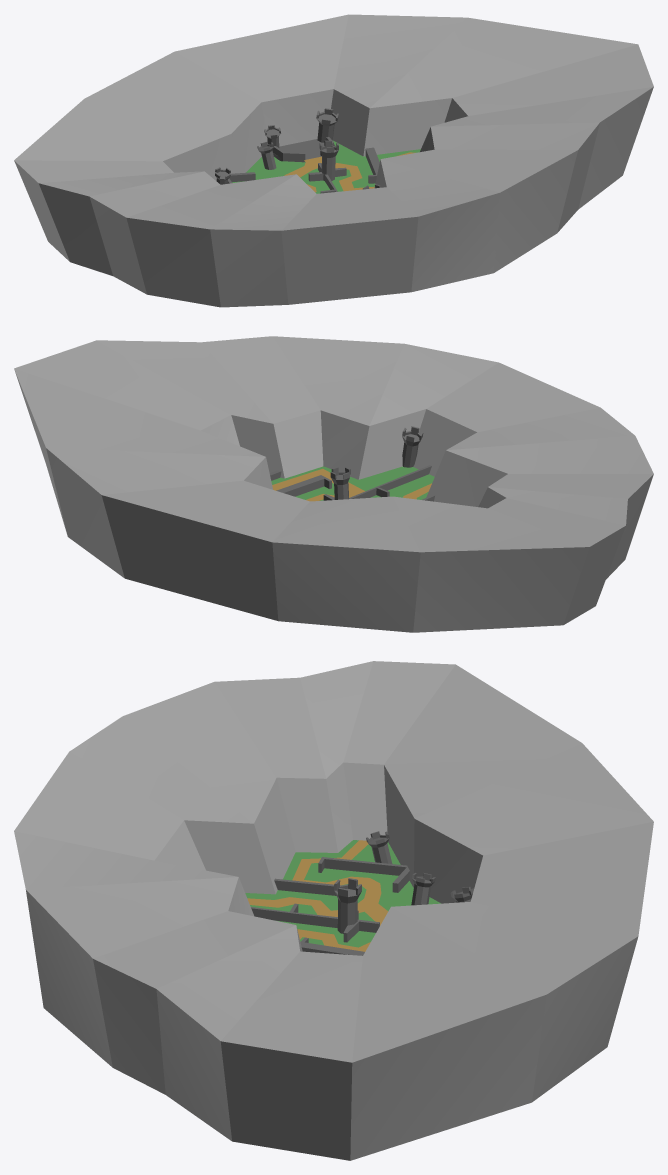
File: xavierlevel.fbx
The picture shows the model from 3 angles, top to bottom: view 1: azimuth 30°, elevation 25°; view 2: azimuth 150°, elevation 25°; view 3: azimuth 270°, elevation 25°; orthographic projection. The views are drawn at different scales.
Visible parts, largest first — view 1: OuterWalls, Ground, tour1, tour5, pCube6; view 2: OuterWalls, Ground, pCube6, tour3, pCube9, tour1; view 3: OuterWalls, Ground, pCube6, pCube8, tour1.
Boxes of the visible parts, box(x1,y1,x2,y2) form: OuterWalls: box(14, 14, 653, 307); Ground: box(232, 139, 420, 193); tour1: box(319, 140, 338, 180); tour5: box(316, 108, 338, 142); pCube6: box(308, 163, 346, 193); OuterWalls: box(14, 336, 653, 632); Ground: box(271, 466, 434, 501); pCube6: box(323, 465, 431, 500); tour3: box(402, 426, 423, 467); pCube9: box(276, 475, 331, 496); tour1: box(330, 467, 350, 499); OuterWalls: box(14, 661, 653, 1160); Ground: box(245, 840, 440, 951); pCube6: box(251, 903, 379, 942); pCube8: box(318, 857, 409, 892); tour1: box(334, 878, 361, 933).
Bounding box in the file's own units: 8891 × 1224 × 5987.
